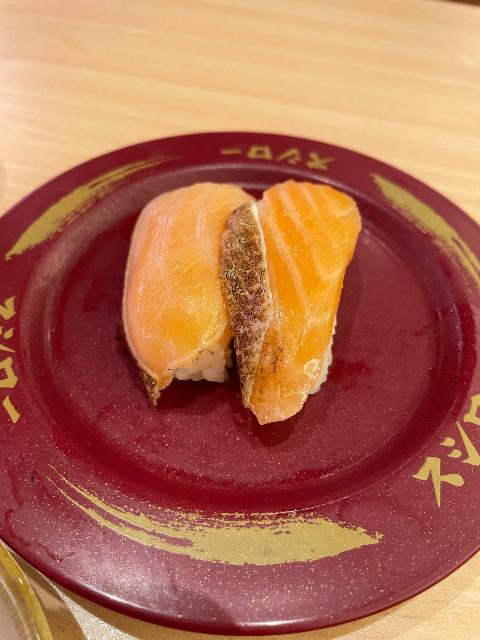janred: (0, 147, 480, 570)
